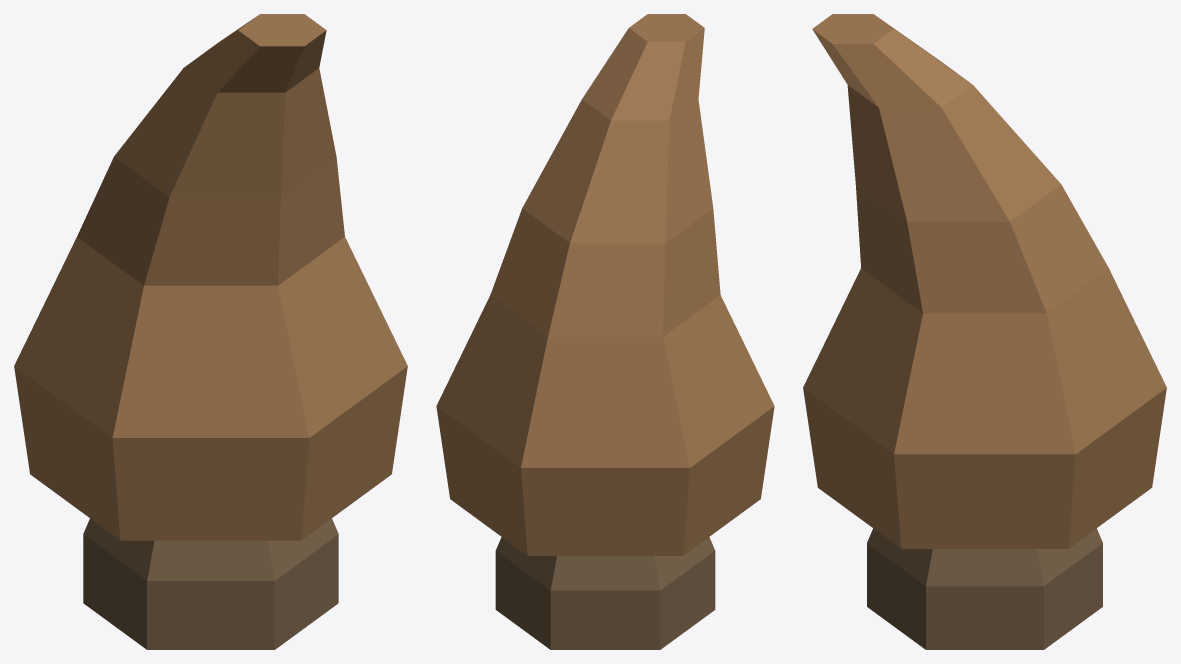
File: Cogumelo 1.fbx
3 views of the same model, side by side, from view 1: azimuth 30°, elevation 25°; view 2: azimuth 150°, elevation 25°; view 3: azimuth 270°, elevation 25° (orthographic). The views are drawn at different scales.
Parts seen in each view (by area): view 1: Cogumelo 4; view 2: Cogumelo 4; view 3: Cogumelo 4.
Boxes of the visible parts, box(x1,y1,x2,y2) form: Cogumelo 4: box(14, 14, 407, 649); Cogumelo 4: box(436, 14, 774, 649); Cogumelo 4: box(803, 14, 1166, 649).
Size of the model in its own units: 445 by 899 by 513.
